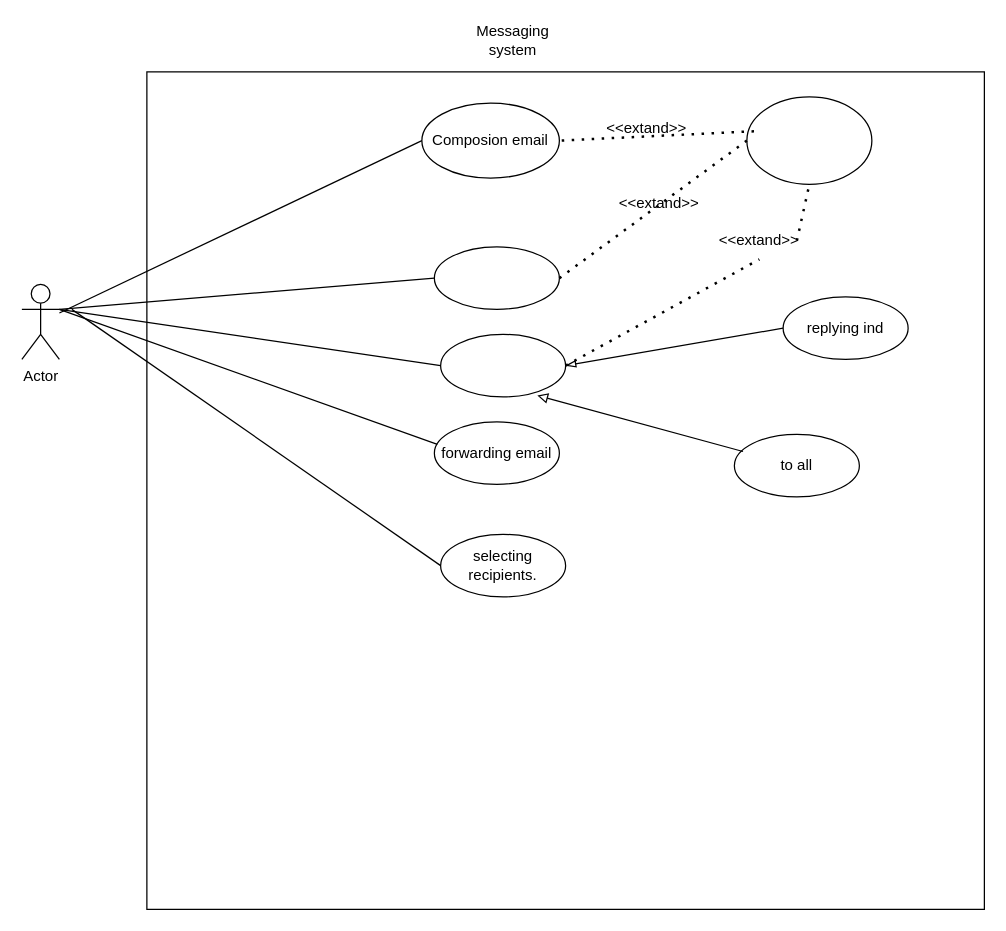
Some shapes in this 1006 by 931 pixel diagram are drawn without their labels. The shapes that lost their labels are listed below. From the top down, each one's centre as x and y in pixels, then its label:
At [809,140]: "attaching fils".
At [496,277]: "Sending email".
At [502,365]: "replying email".
